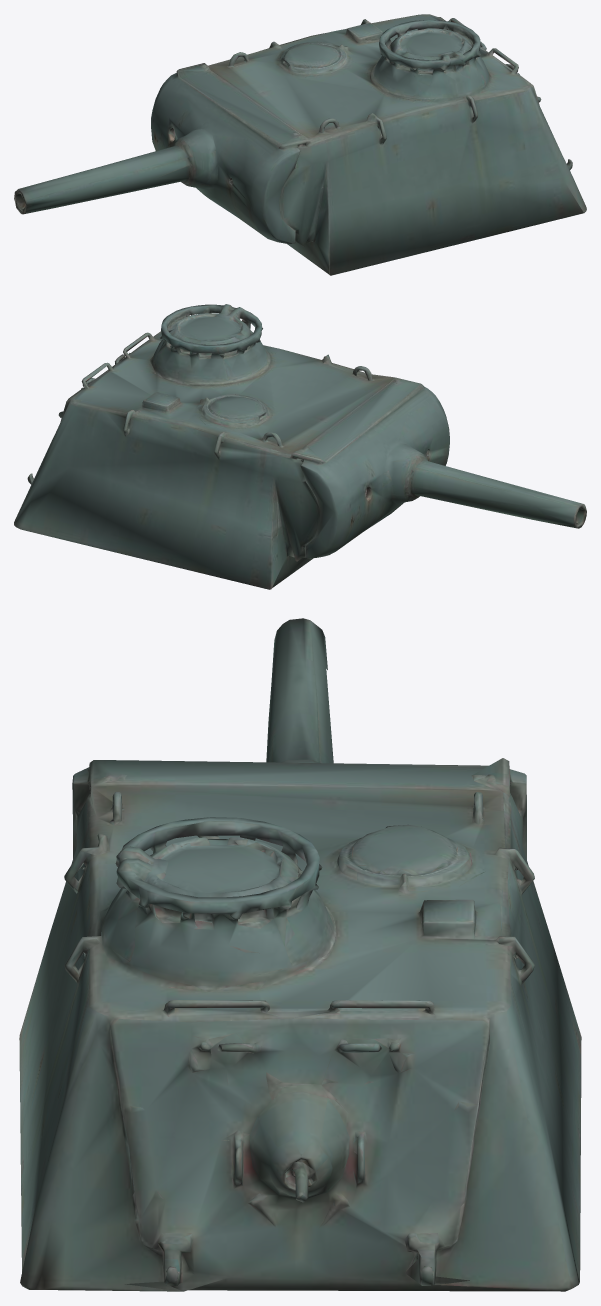
Rendered from tank-panther-turret.glb.
The picture shows the model from 3 angles, top to bottom: view 1: azimuth 30°, elevation 25°; view 2: azimuth 150°, elevation 25°; view 3: azimuth 270°, elevation 25°; orthographic projection. The views are drawn at different scales.
Parts seen in each view (by area): view 1: Mesh_0; view 2: Mesh_0; view 3: Mesh_0.
Boxes of the visible parts, left/top/right/bottom form: Mesh_0: left=14, top=14, right=586, bottom=275; Mesh_0: left=14, top=304, right=586, bottom=589; Mesh_0: left=19, top=618, right=581, bottom=1291.
Bounding box in the file's own units: 1.9 × 0.5748 × 0.8872.
1 material, 1 textured.
